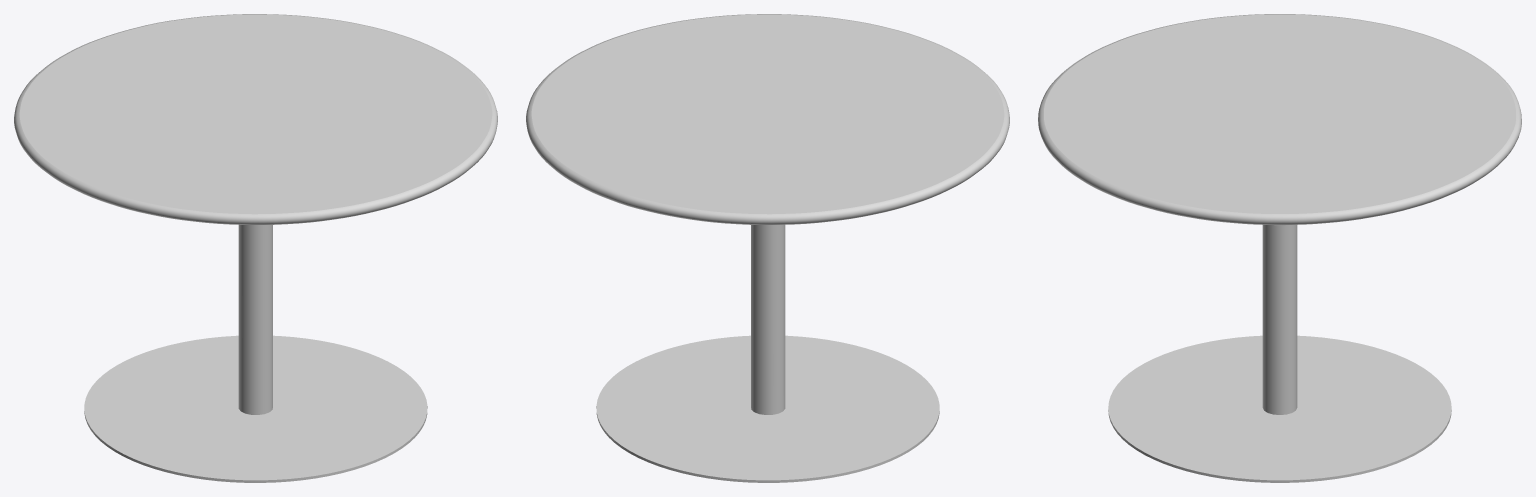
The model's file is Parker_Cafe_Ensemble.glb.
3 renders of one model, left to right at view 1: azimuth 30°, elevation 25°; view 2: azimuth 150°, elevation 25°; view 3: azimuth 270°, elevation 25°, orthographic.
Visible parts, largest first — view 1: Parker_Cafe_Ensemble; view 2: Parker_Cafe_Ensemble; view 3: Parker_Cafe_Ensemble.
Boxes of the visible parts, left/top/right/bottom form: Parker_Cafe_Ensemble: left=14, top=14, right=497, bottom=482; Parker_Cafe_Ensemble: left=526, top=14, right=1009, bottom=482; Parker_Cafe_Ensemble: left=1038, top=14, right=1521, bottom=482.
Bounding box in the file's own units: 1.07 × 0.7238 × 1.07.
Materials: 1 (1 with a texture image).
